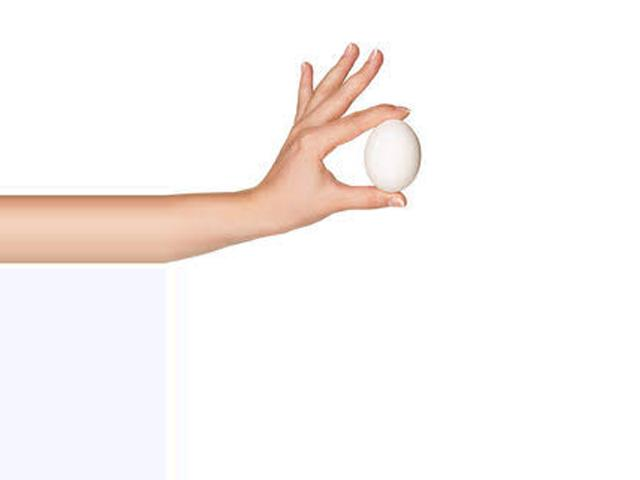egg: (364, 118, 422, 192)
